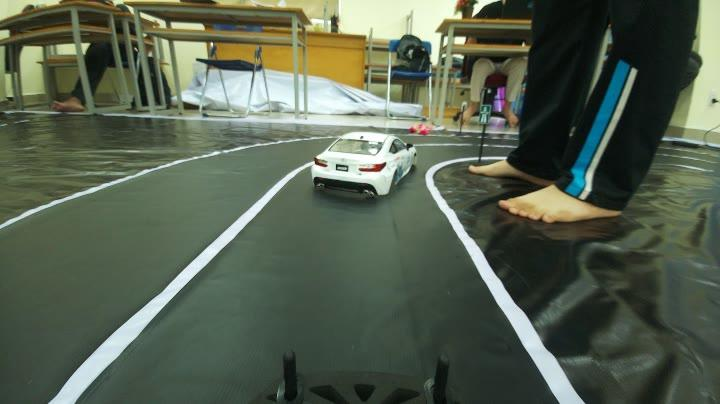car: (303, 117, 418, 213)
